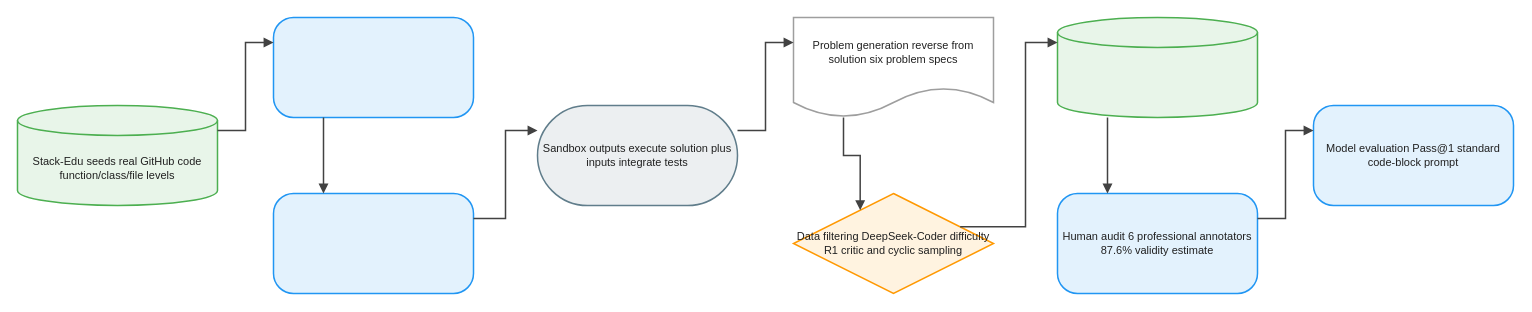
The diagram is 1532 pixels wide and 312 high, and some of its shapes have lost their labels. The centre of each missing label's shape, as x and y in pixels:
"Code solution generation DeepSeek-V3 refinement comments and cleanup" goes at (373,67).
"Final benchmark 3,920 problems balanced 20 languages" goes at (1157,67).
"Test input generation public examples private edge cases" goes at (373,243).
